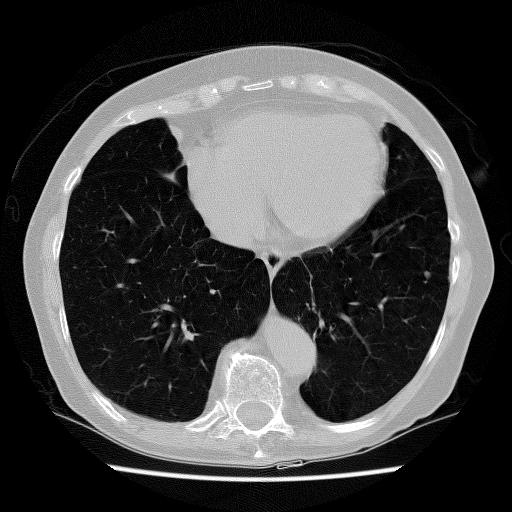nodule: (420, 268, 433, 281)
